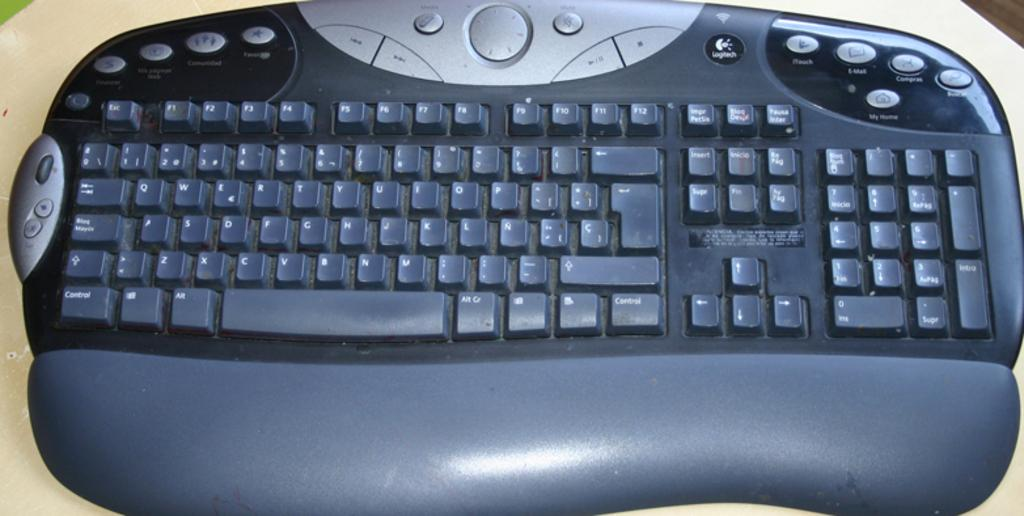Computer-keyboard: (5, 0, 1023, 515)
